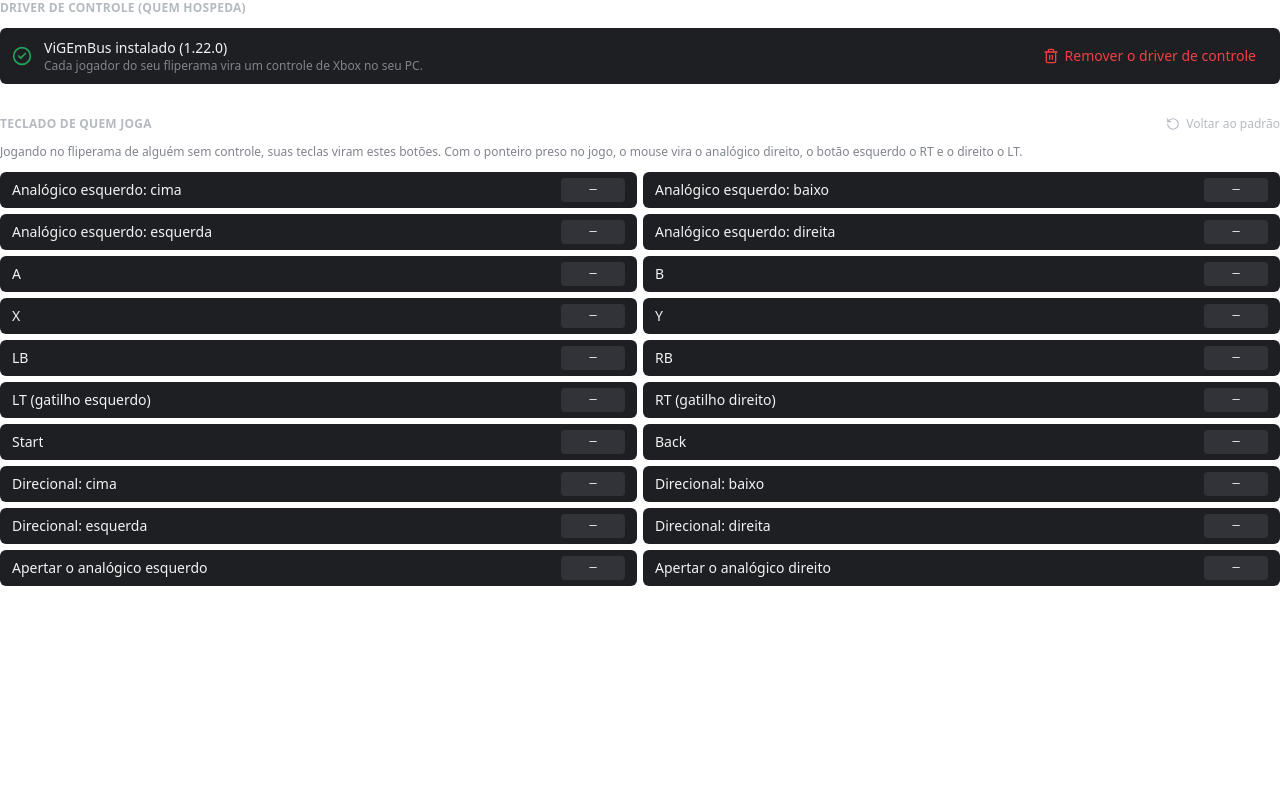
Test: Configurações › Fliperama › remove o driver depois de confirmar
Expected: the text "ViGEmBus instalado (1.22.0)" is shown, [44,38,227,57]
Click the button "Remover o driver de controle" at (1149, 56), box [1031,40,1268,72]
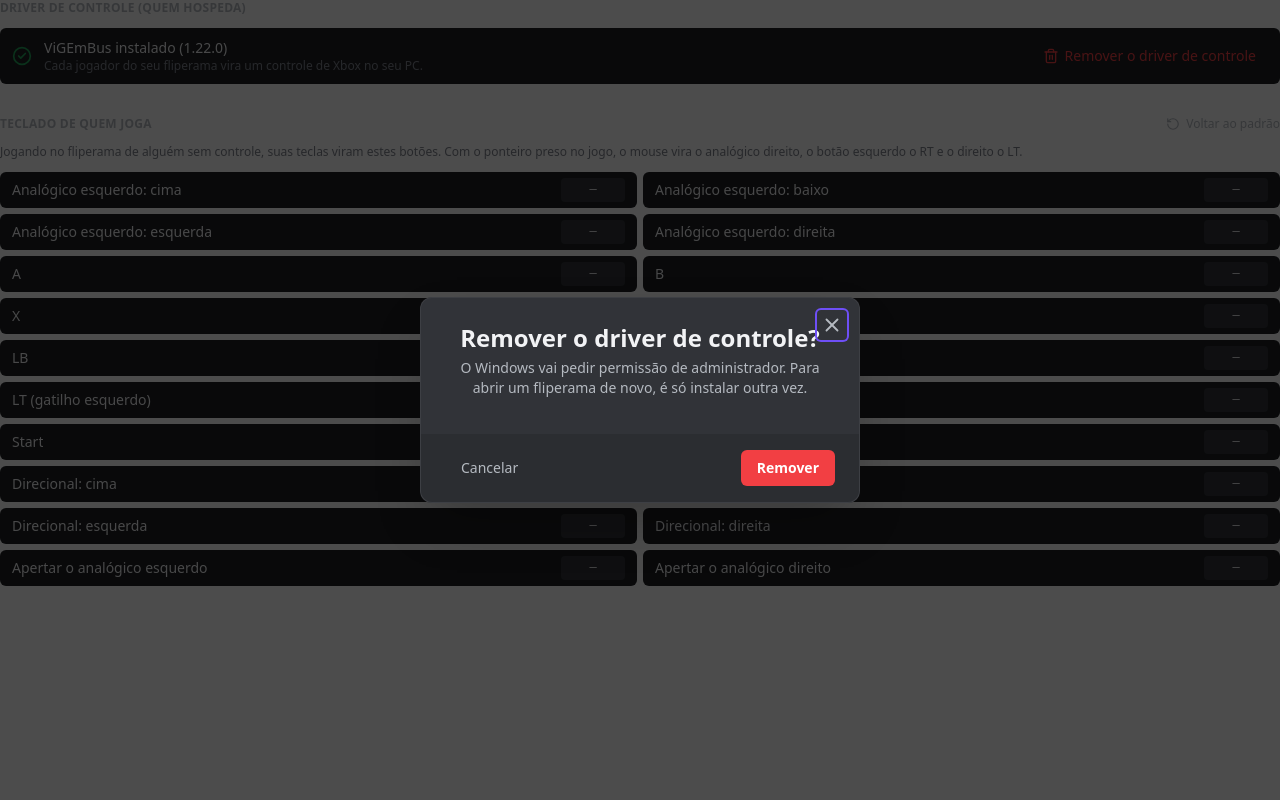
Click the button "Remover" at (788, 468), box [741,450,835,486]
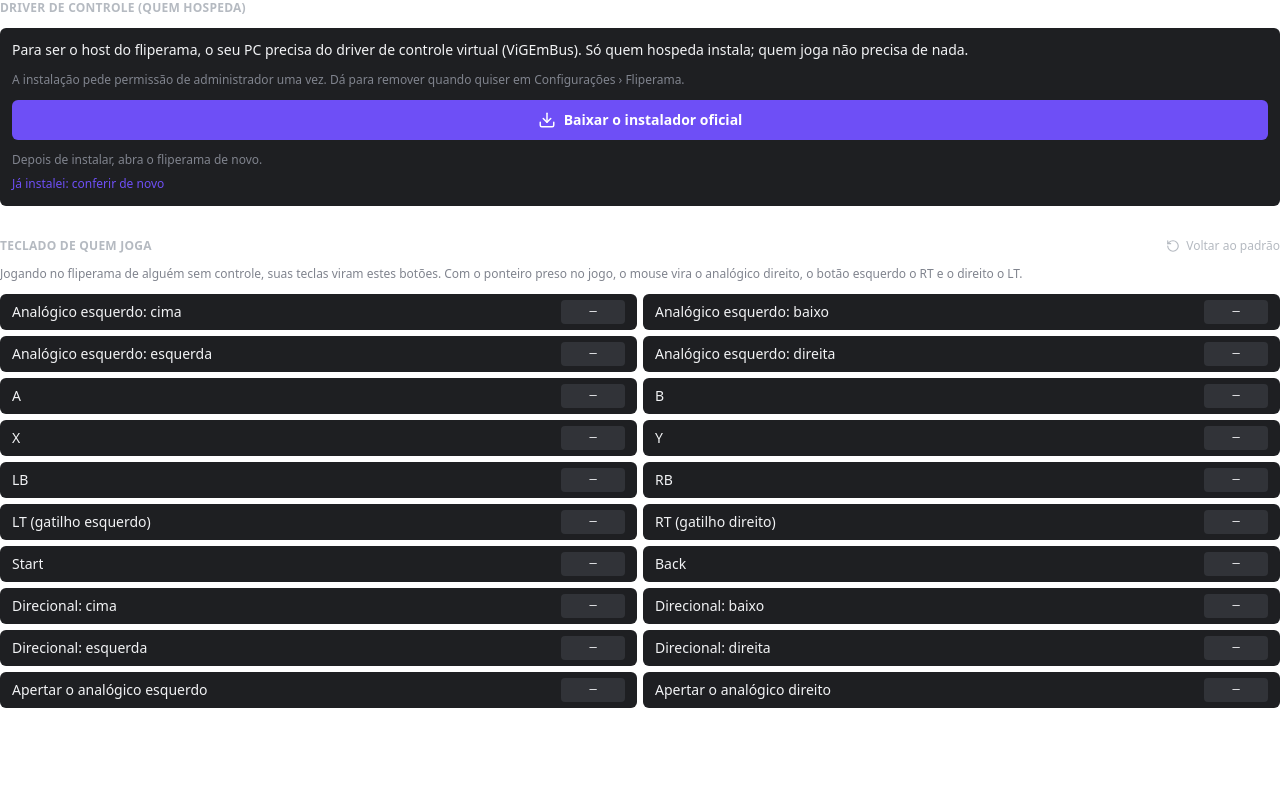
Expected: the button "Baixar o instalador oficial" is shown, [12,100,1268,140]
